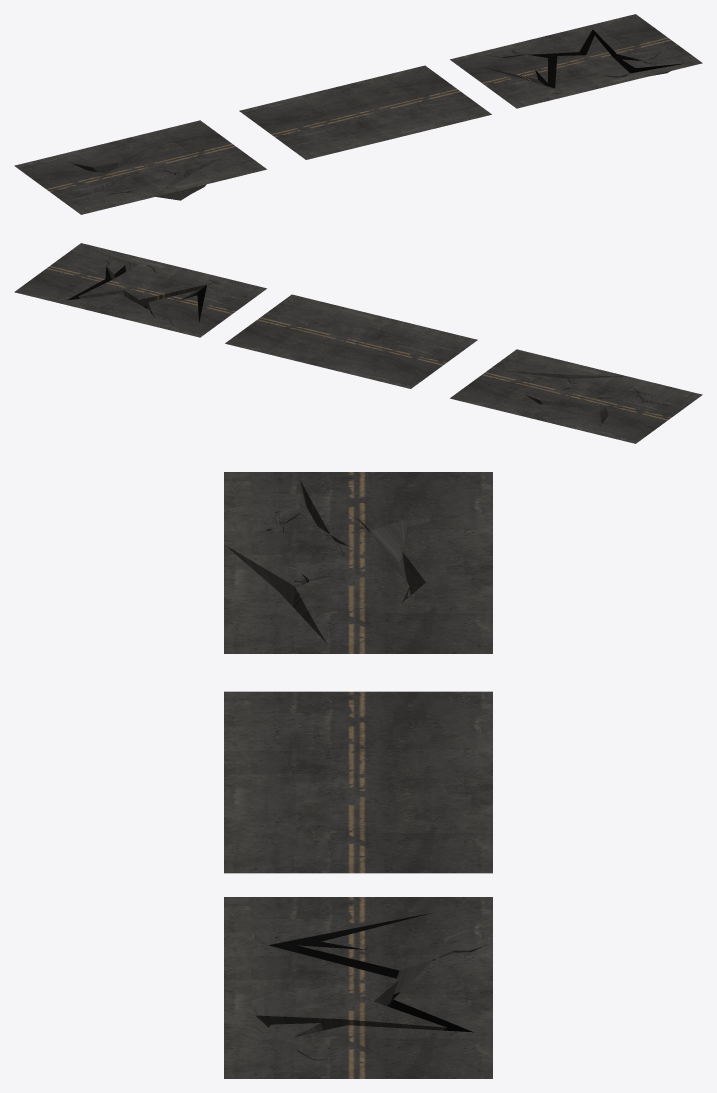
The model's file is roads.fbx.
The picture shows the model from 3 angles, top to bottom: view 1: azimuth 30°, elevation 25°; view 2: azimuth 150°, elevation 25°; view 3: azimuth 270°, elevation 25°; orthographic projection. The views are drawn at different scales.
Visible parts, largest first — view 1: Plane.002, Plane.001, Plane; view 2: Plane, Plane.001, Plane.002; view 3: Plane, Plane.001, Plane.002.
Part boxes in pixels (bbox=[...]): Plane.002: bbox=[14, 120, 266, 214]; Plane.001: bbox=[450, 14, 702, 108]; Plane: bbox=[239, 65, 491, 159]; Plane: bbox=[225, 294, 477, 388]; Plane.001: bbox=[14, 243, 266, 337]; Plane.002: bbox=[450, 349, 702, 443]; Plane: bbox=[224, 691, 492, 873]; Plane.001: bbox=[224, 897, 492, 1078]; Plane.002: bbox=[224, 472, 492, 653].
Bounding box in the file's own units: 4560 × 146 × 854.
